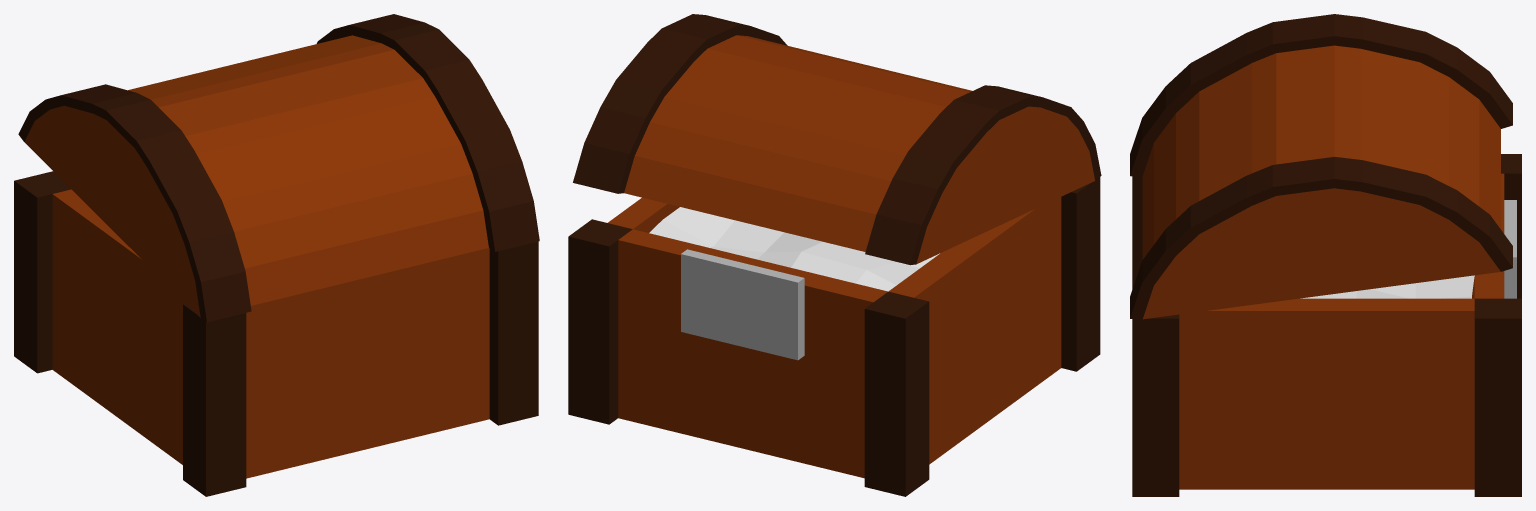
The model's file is chest_with_gold.fbx.
3 views of the same model, side by side, from view 1: azimuth 30°, elevation 25°; view 2: azimuth 150°, elevation 25°; view 3: azimuth 270°, elevation 25° (orthographic).
Parts seen in each view (by area): view 1: Cube.005, Cube.004; view 2: Cube.004, Cube.005, Cube.006; view 3: Cube.005, Cube.004, Cube.006.
Boxes of the visible parts, x1=… form: Cube.005: x1=18, y1=14, x2=539, y2=322; Cube.004: x1=14, y1=171, x2=538, y2=496; Cube.004: x1=568, y1=177, x2=1100, y2=496; Cube.005: x1=573, y1=14, x2=1101, y2=265; Cube.006: x1=649, y1=207, x2=939, y2=291; Cube.005: x1=1130, y1=14, x2=1512, y2=319; Cube.004: x1=1132, y1=154, x2=1521, y2=496; Cube.006: x1=1300, y1=275, x2=1474, y2=298.
Bounding box in the file's own units: 396 × 357 × 398.
Materials: 1 (1 with a texture image).
